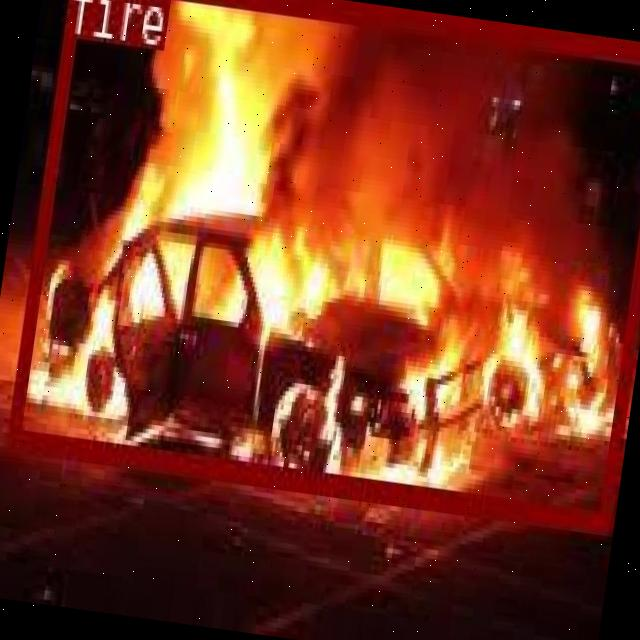fire: (5, 0, 640, 527)
